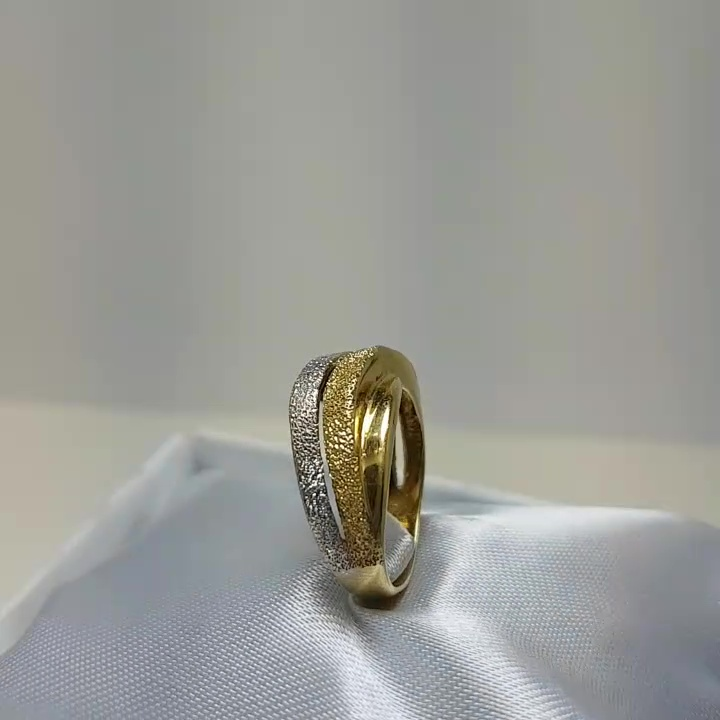Ring 5: (262, 327, 462, 614)
